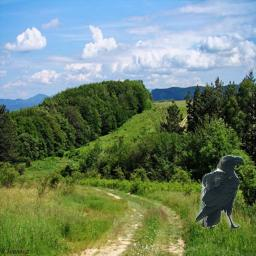Crow: (194, 155, 245, 229)
